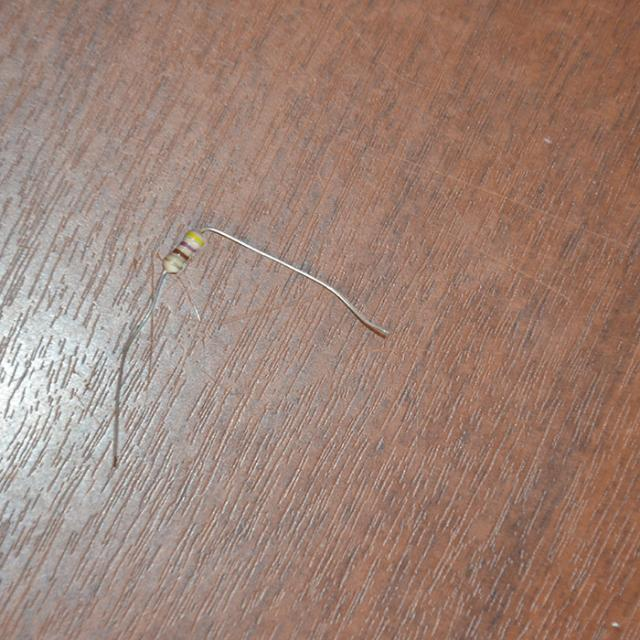brown: (174, 248, 190, 260)
gold: (165, 257, 184, 270)
resistor: (149, 217, 218, 285)
violet: (180, 240, 197, 251)
yellow: (187, 232, 203, 244)
